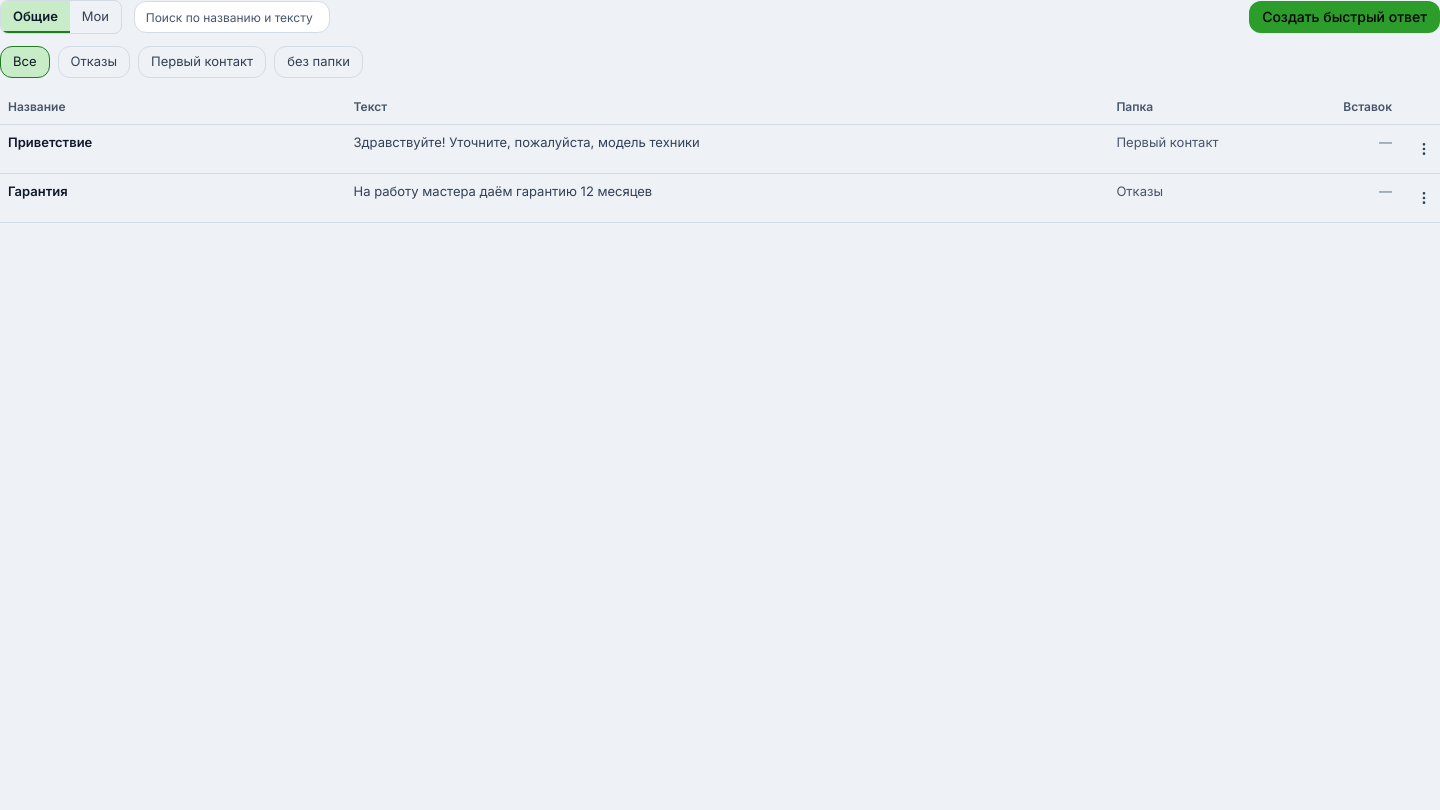
Test: Быстрые ответы — вставка переменной и удаление › переменная встаёт в каретку, а не в конец текста
Check: the table is shown, box left=0, top=90, right=1439, bottom=223
Click the button "Создать быстрый ответ": (1345, 17) left=1249, top=1, right=1439, bottom=33
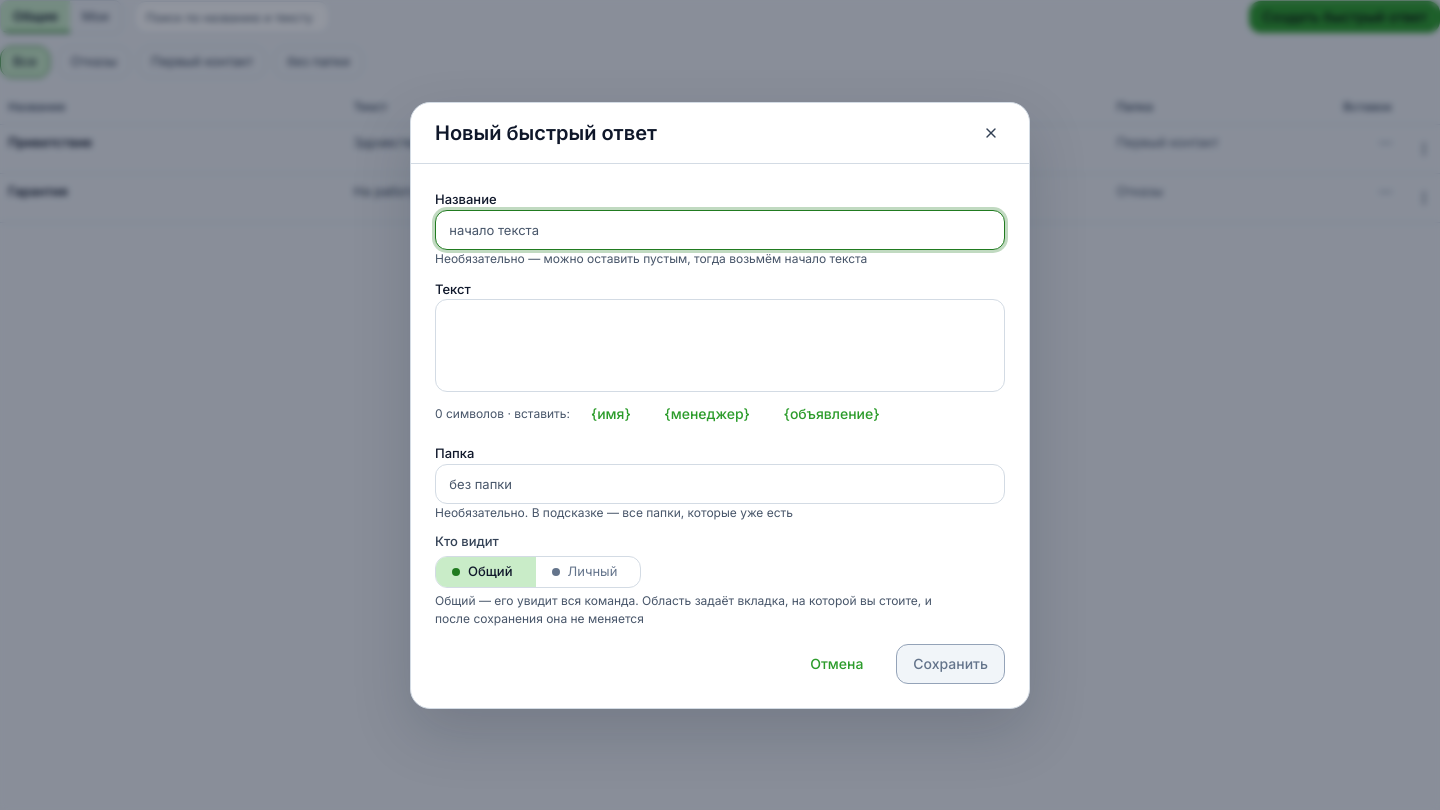
In the text box labelled "Текст": (720, 346) left=435, top=299, right=1005, bottom=392, type "Здравствуйте, ! Мастер будет к 15:00"
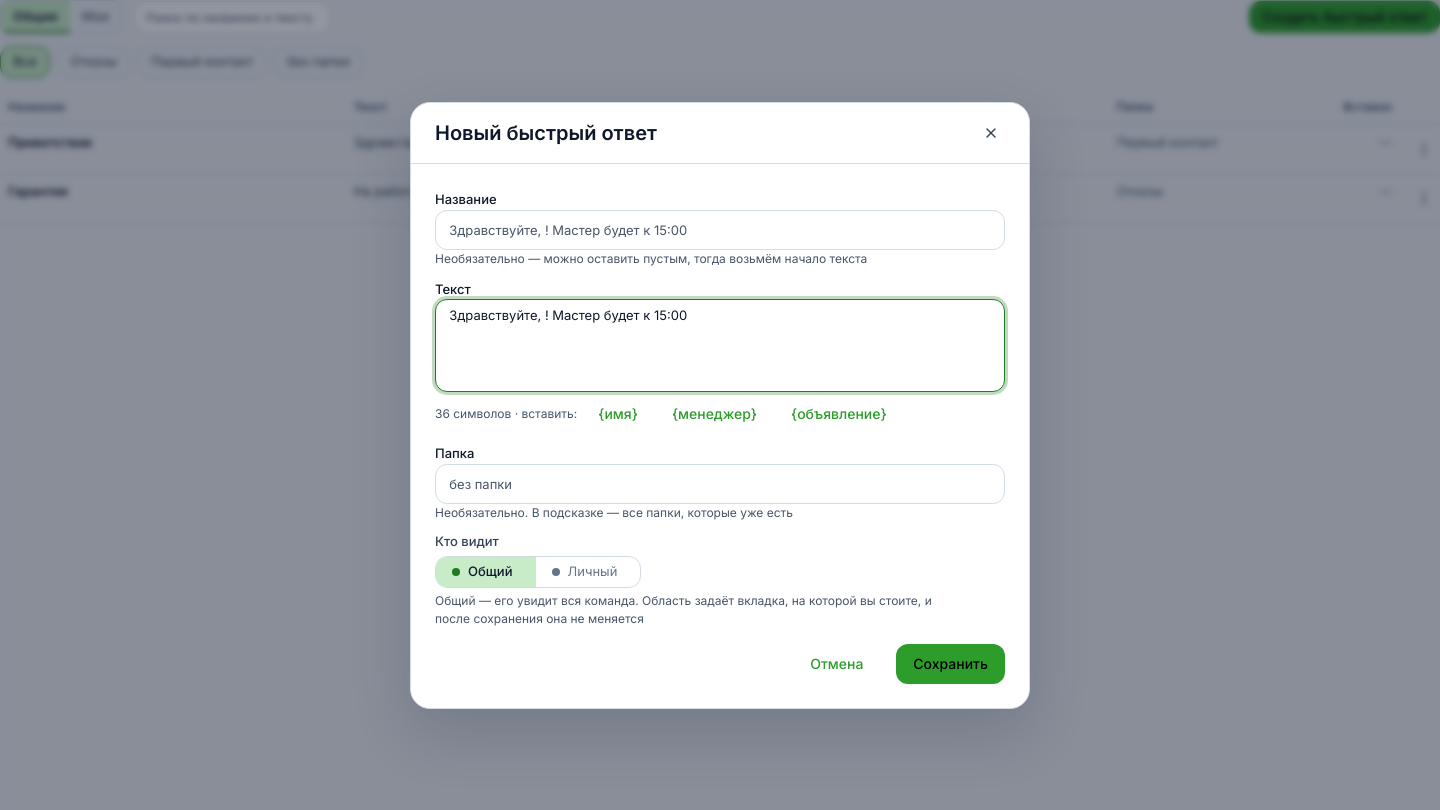
Click the button with aria-label "Вставить переменную {имя}": (618, 414) left=585, top=398, right=651, bottom=430
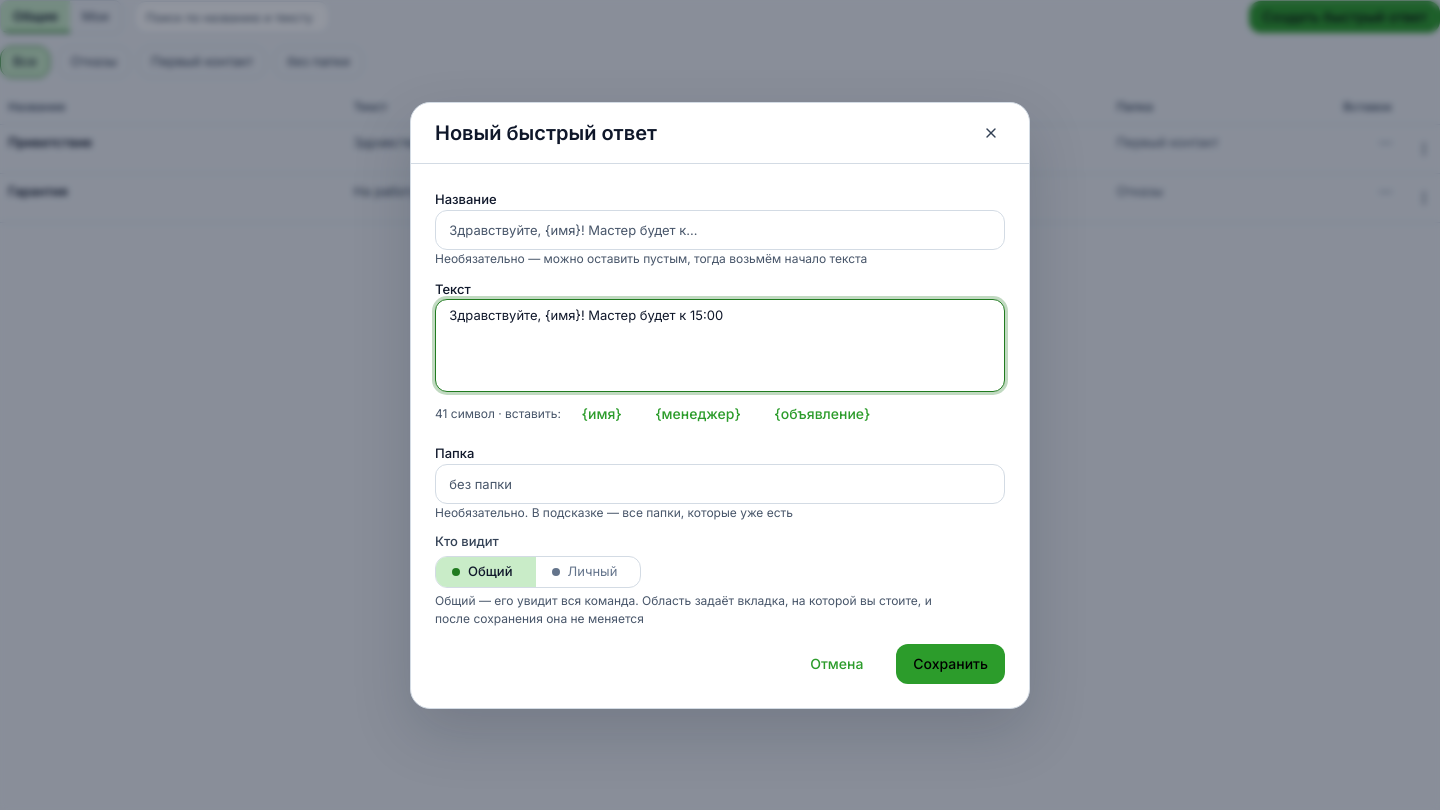
Check: the text box labelled "Текст" holds "Здравствуйте, {имя}! Мастер будет к 15:00", box left=435, top=299, right=1005, bottom=392
